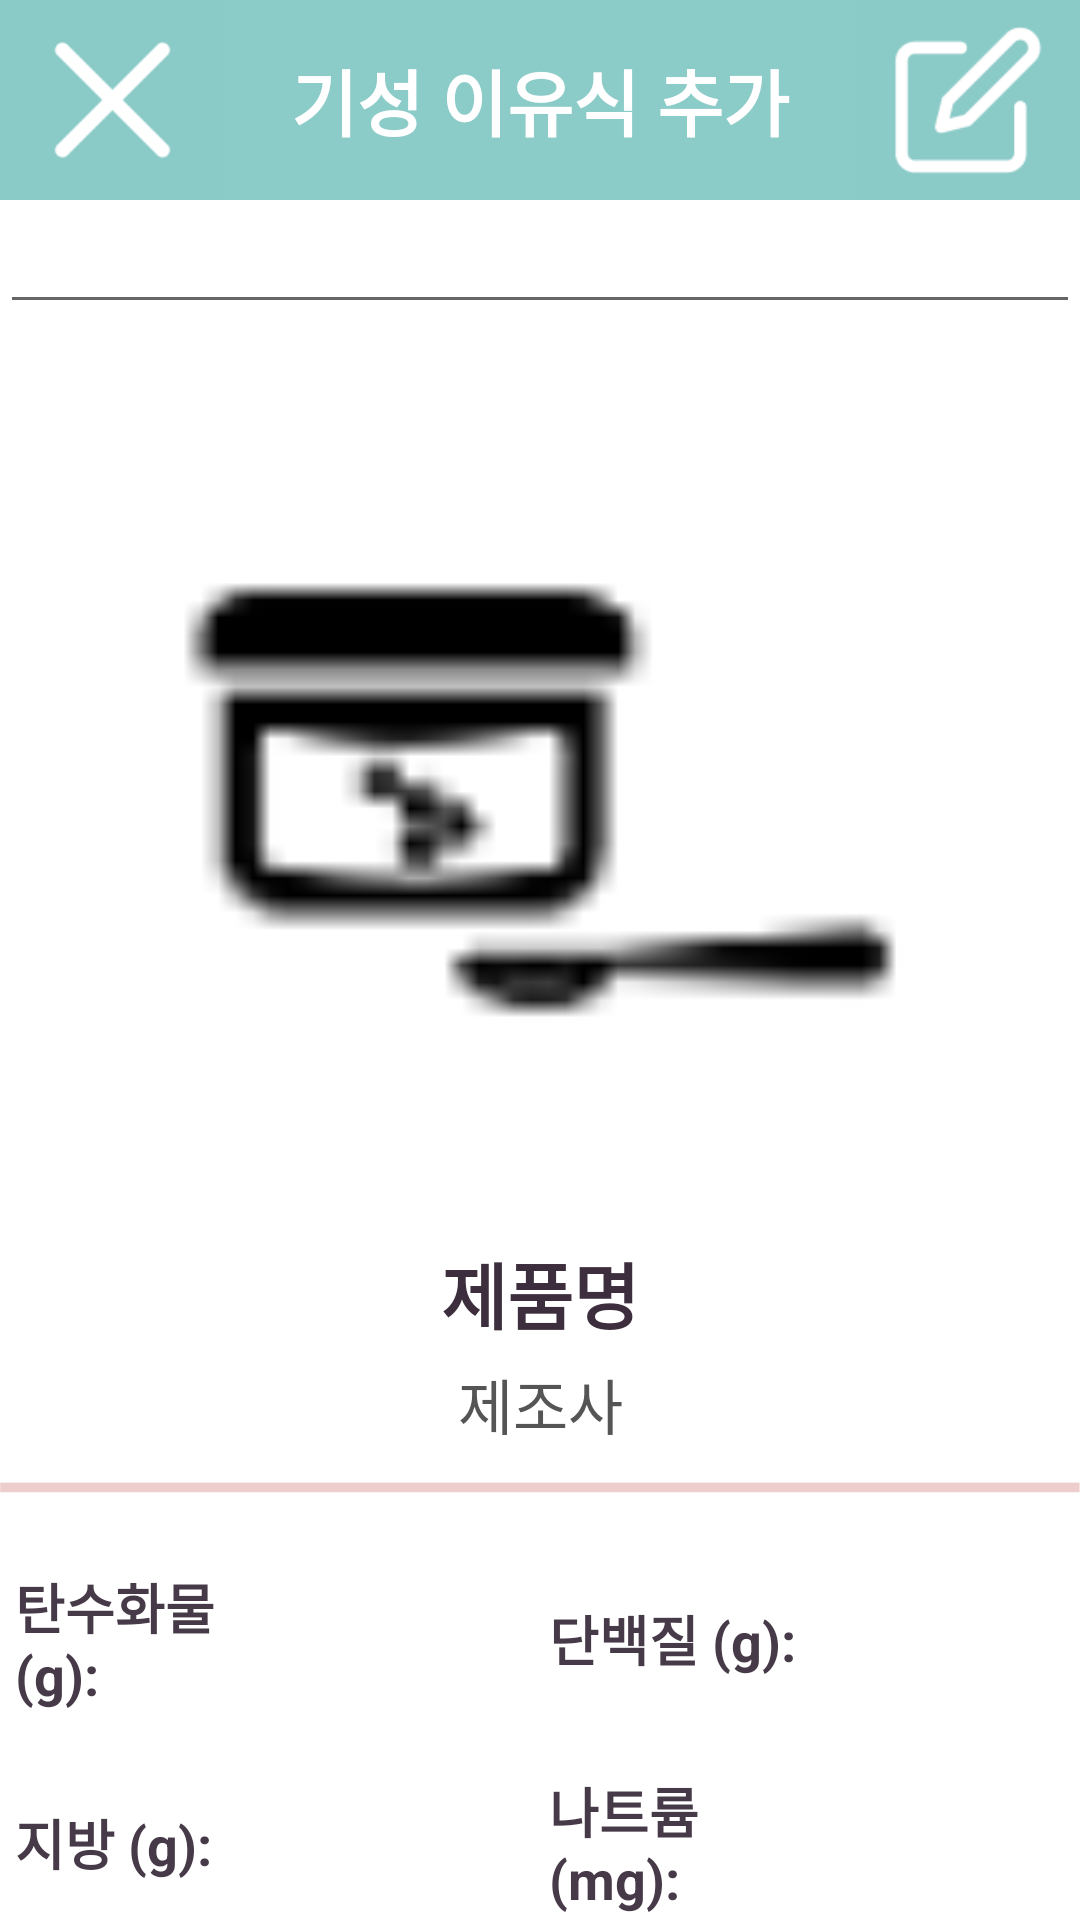

Point at icon controls on the screen. Image size 1080w x 1920h, points as (x=x, y=y).
edit: (x=968, y=100)
